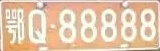Q: (28, 9, 46, 44)
